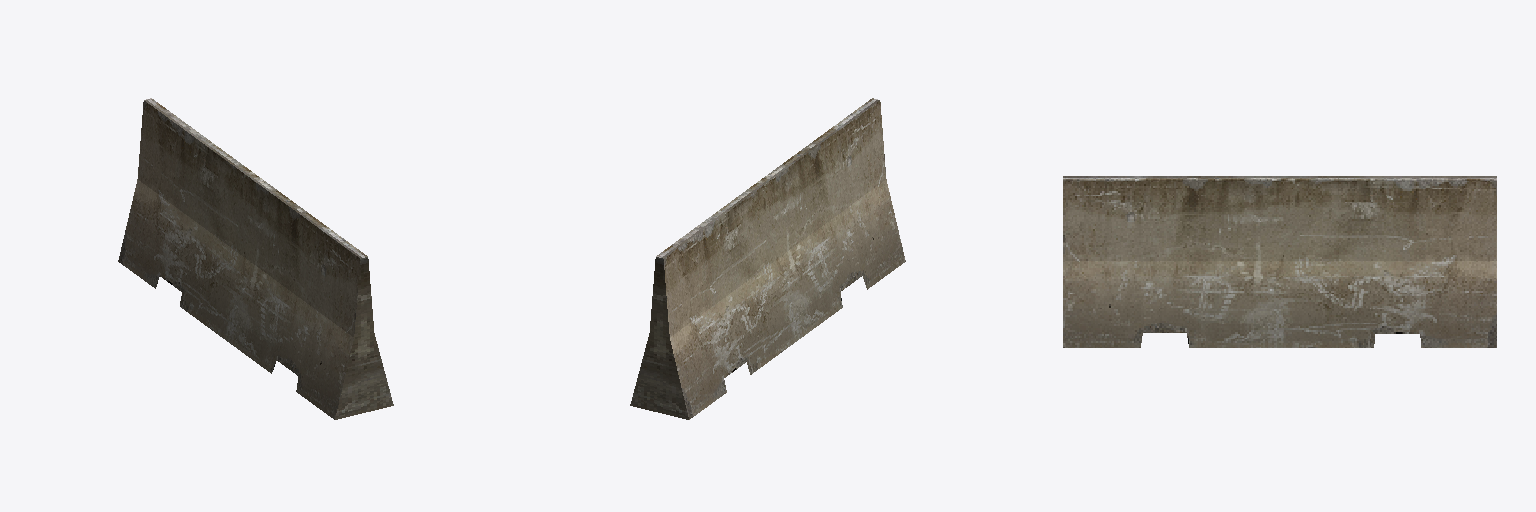
3 renders of one model, left to right at view 1: azimuth 30°, elevation 25°; view 2: azimuth 150°, elevation 25°; view 3: azimuth 270°, elevation 25°, orthographic.
Visible parts, largest first — view 1: Barrier; view 2: Barrier; view 3: Barrier.
Part boxes in pixels (bbox=[...]): Barrier: bbox=[118, 98, 393, 419]; Barrier: bbox=[630, 98, 905, 419]; Barrier: bbox=[1063, 176, 1496, 347].
Size of the model in its own units: 1.48 by 3.73 by 9.43.
Materials: 1 (1 with a texture image).